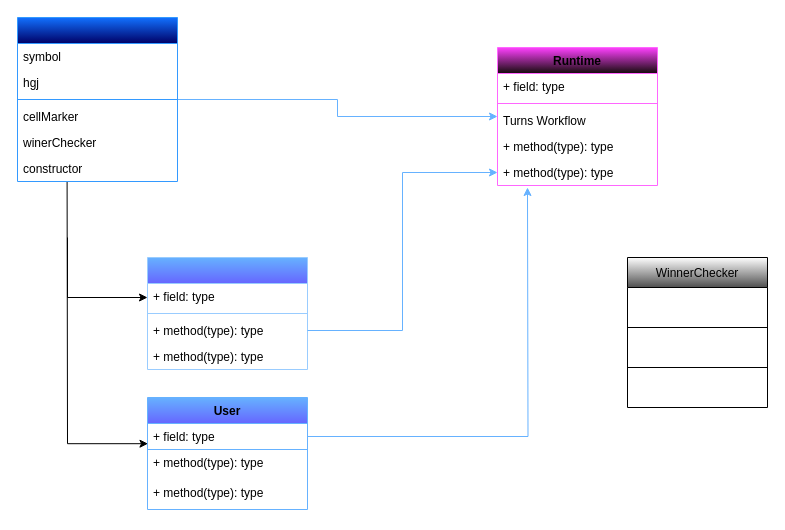
Image size: 785x530. Some labels were removed from this diagram. Each missing label, with the box of its shape:
Bot: (146, 256, 308, 370)
Players: (16, 16, 178, 182)
